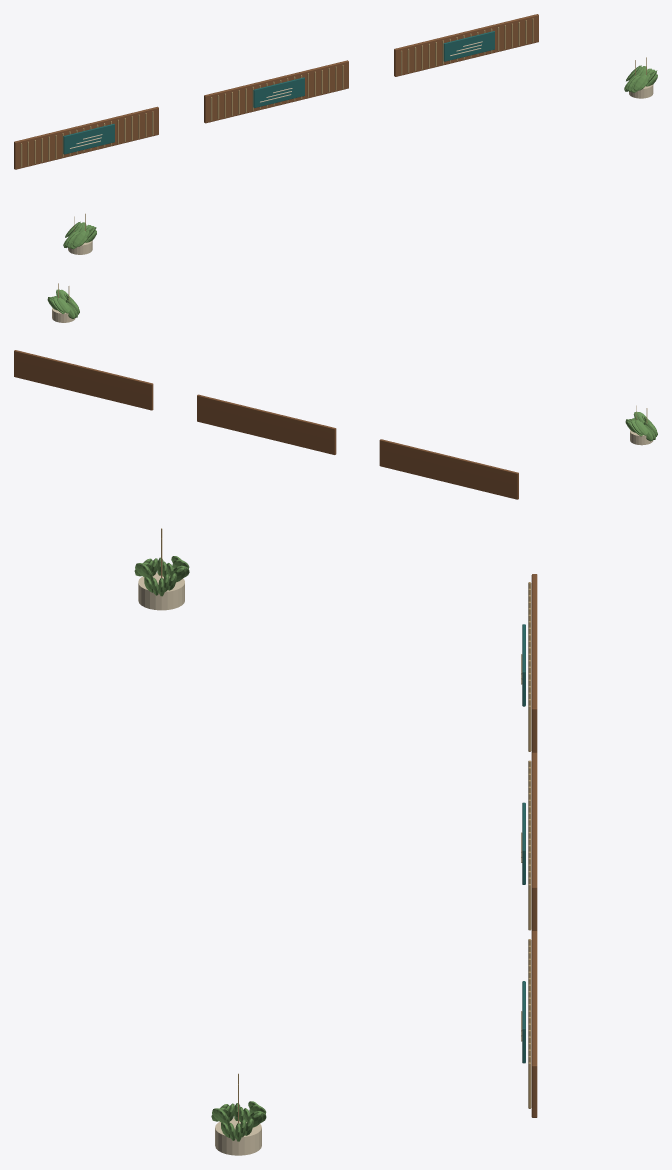
Rendered from habitat-wall.glb.
The picture shows the model from 3 angles, top to bottom: view 1: azimuth 30°, elevation 25°; view 2: azimuth 150°, elevation 25°; view 3: azimuth 270°, elevation 25°; orthographic projection. The views are drawn at different scales.
Parts seen in each view (by area): view 1: Walnut acoustic backing, Walnut acoustic backing.001, Walnut acoustic backing.002, Personal teal wall panel.001, Personal teal wall panel, Personal teal wall panel.002; view 2: Walnut acoustic backing, Walnut acoustic backing.001, Walnut acoustic backing.002; view 3: Walnut acoustic backing.002, Walnut acoustic backing, Walnut acoustic backing.001, Suspended ceramic planter, Suspended ceramic planter.001.
Part boxes in pixels (<box>): Walnut acoustic backing: <box>14,106,158,169</box>; Walnut acoustic backing.001: <box>204,60,348,123</box>; Walnut acoustic backing.002: <box>394,14,538,76</box>; Personal teal wall panel.001: <box>253,77,304,107</box>; Personal teal wall panel: <box>63,123,114,154</box>; Personal teal wall panel.002: <box>443,31,494,61</box>; Walnut acoustic backing: <box>379,439,518,499</box>; Walnut acoustic backing.001: <box>197,394,336,454</box>; Walnut acoustic backing.002: <box>14,350,153,410</box>; Walnut acoustic backing.002: <box>531,931,537,1117</box>; Walnut acoustic backing: <box>531,574,537,752</box>; Walnut acoustic backing.001: <box>531,752,537,931</box>; Suspended ceramic planter: <box>138,572,184,610</box>; Suspended ceramic planter.001: <box>215,1117,261,1155</box>.
Bounding box in the file's own units: 16.81 × 0.915 × 4.98.
